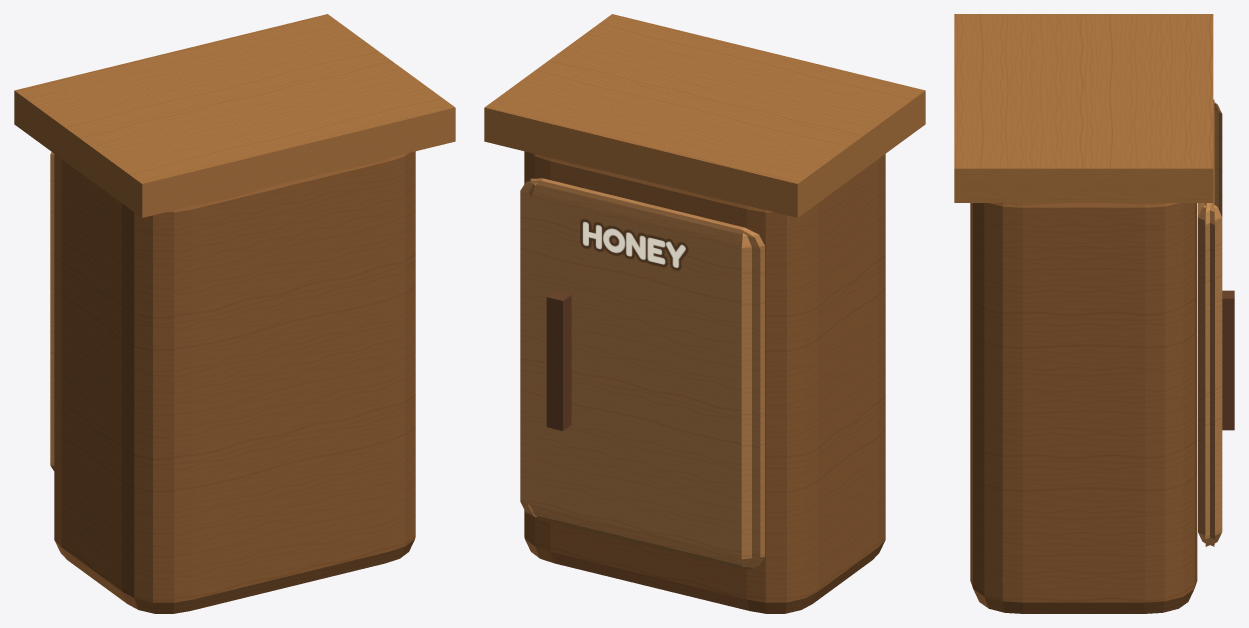
File: honey-storage.glb
The picture shows the model from 3 angles, left to right: view 1: azimuth 30°, elevation 25°; view 2: azimuth 150°, elevation 25°; view 3: azimuth 270°, elevation 25°; orthographic projection.
Size of the model in its own units: 1.16 by 1.61 by 0.8875.
Materials: 5 (4 with a texture image).
